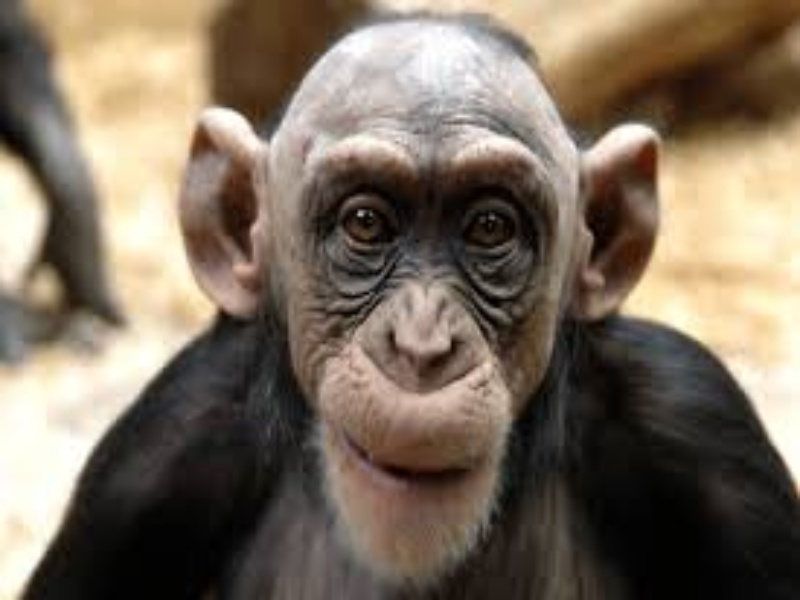monkey: (136, 11, 800, 600)
